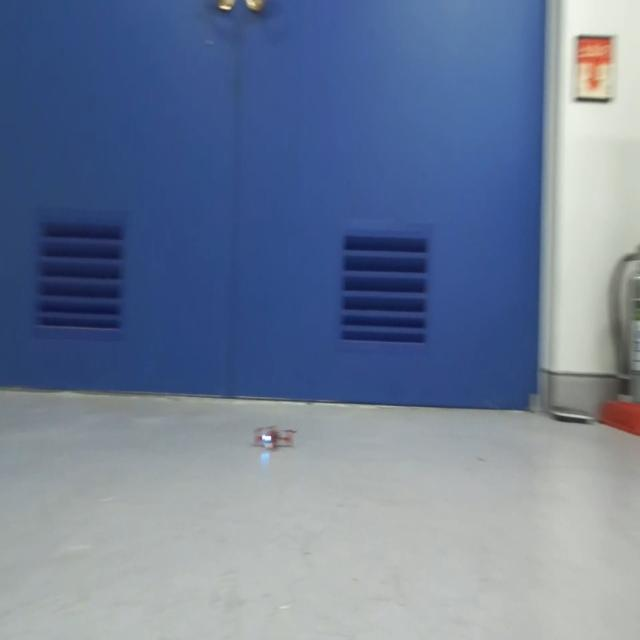crazyflie: (250, 418, 297, 451)
